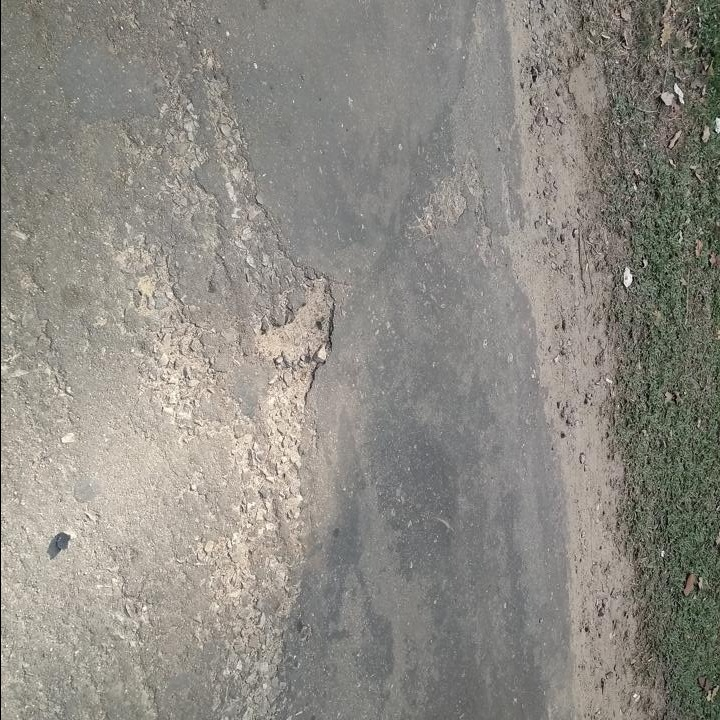pothole: (249, 270, 338, 374)
